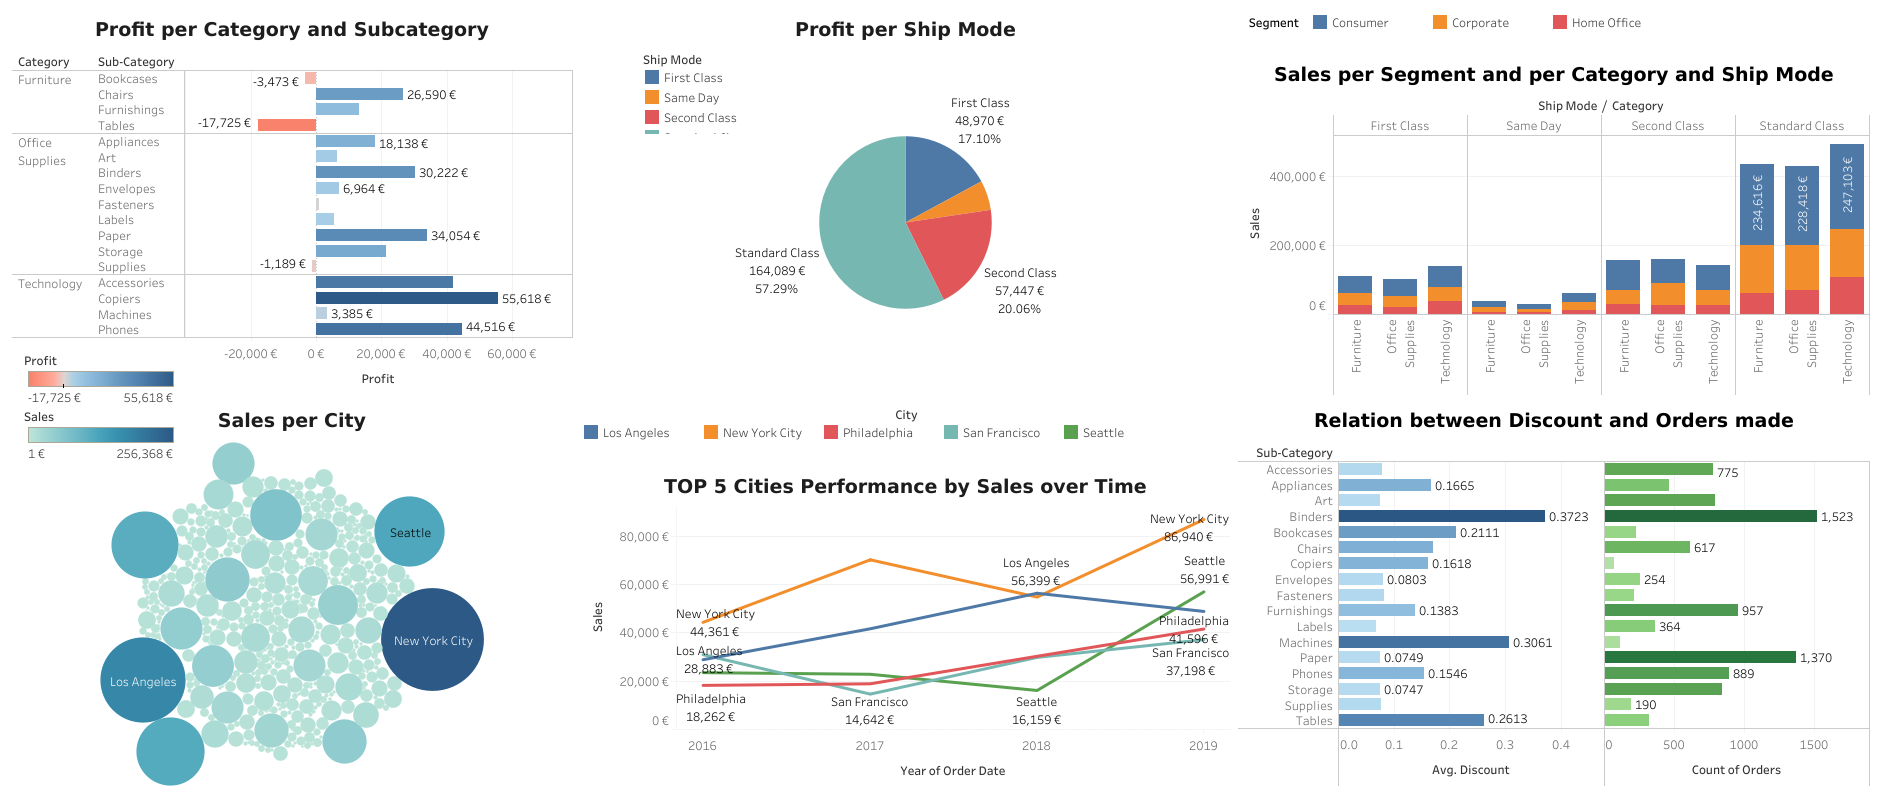

This screenshot's page, from the dashboard's own definition file:
{"tool":"tableau","page":{"name":"Task 7","canvas":[1000,1000],"units":"permille","ordinal":0},"visuals":[{"type":"worksheet","title":"Task 1","mark":"Automatic","rows":["Category","Sub-Category"],"cols":["Profit"],"box":[4.7,8.8,301.9,491.1]},{"type":"worksheet","title":"Task 2","mark":"Pie","box":[306.6,8.8,348.7,491.1]},{"type":"legend","title":"Task 5","param":"[federated.03iibiz0ihidmm1g95a131o1ttqx].[none:Segment:nk]","box":[655.4,8.8,340,56.4]},{"type":"legend","title":"Task 2","param":"[federated.03iibiz0ihidmm1g95a131o1ttqx].[none:Ship Mode:nk]","box":[341.1,59.7,81.9,108.4]},{"type":"worksheet","title":"Task 5","mark":"Automatic","rows":["Sales"],"cols":["Ship Mode","Category"],"box":[655.4,65.3,340,434.7]},{"type":"legend","title":"Task 1","param":"[federated.03iibiz0ihidmm1g95a131o1ttqx].[sum:Profit:qk]","box":[12.9,434.7,81.9,84.1]},{"type":"worksheet","title":"Task 3","mark":"Circle","box":[4.7,500,301.9,491.2]},{"type":"legend","title":"Task 4","param":"[federated.03iibiz0ihidmm1g95a131o1ttqx].[none:City:nk]","box":[306.6,500,348.7,83]},{"type":"worksheet","title":"Task 6","mark":"Automatic","rows":["Sub-Category"],"cols":["Discount","Orders_68CE5DD68CE546A1BA2EADF025292185"],"box":[655.4,500,340,491.2]},{"type":"legend","title":"Task 3","param":"[federated.03iibiz0ihidmm1g95a131o1ttqx].[sum:Sales:qk]","box":[12.9,505.5,81.9,84.1]},{"type":"worksheet","title":"Task 4","mark":"Automatic","rows":["Sales"],"cols":["Order Date"],"box":[306.6,582.9,348.7,408.2]}]}

Visuals, with their boxes on the dashboard's canvas, which has no fixed pixel size, in thousandths of its width and height (x1, y1, x2, y2). These are canvas units, not pixel positions in the 1881x797 screenshot, which may show the page scaled, cropped or inside an application window:
"Task 1" worksheet: x1=5 y1=9 x2=307 y2=500
"Task 2" worksheet (Pie marks): x1=307 y1=9 x2=655 y2=500
"Task 5" legend: x1=655 y1=9 x2=995 y2=65
"Task 2" legend: x1=341 y1=60 x2=423 y2=168
"Task 5" worksheet: x1=655 y1=65 x2=995 y2=500
"Task 1" legend: x1=13 y1=435 x2=95 y2=519
"Task 3" worksheet (Circle marks): x1=5 y1=500 x2=307 y2=991
"Task 4" legend: x1=307 y1=500 x2=655 y2=583
"Task 6" worksheet: x1=655 y1=500 x2=995 y2=991
"Task 3" legend: x1=13 y1=506 x2=95 y2=590
"Task 4" worksheet: x1=307 y1=583 x2=655 y2=991
